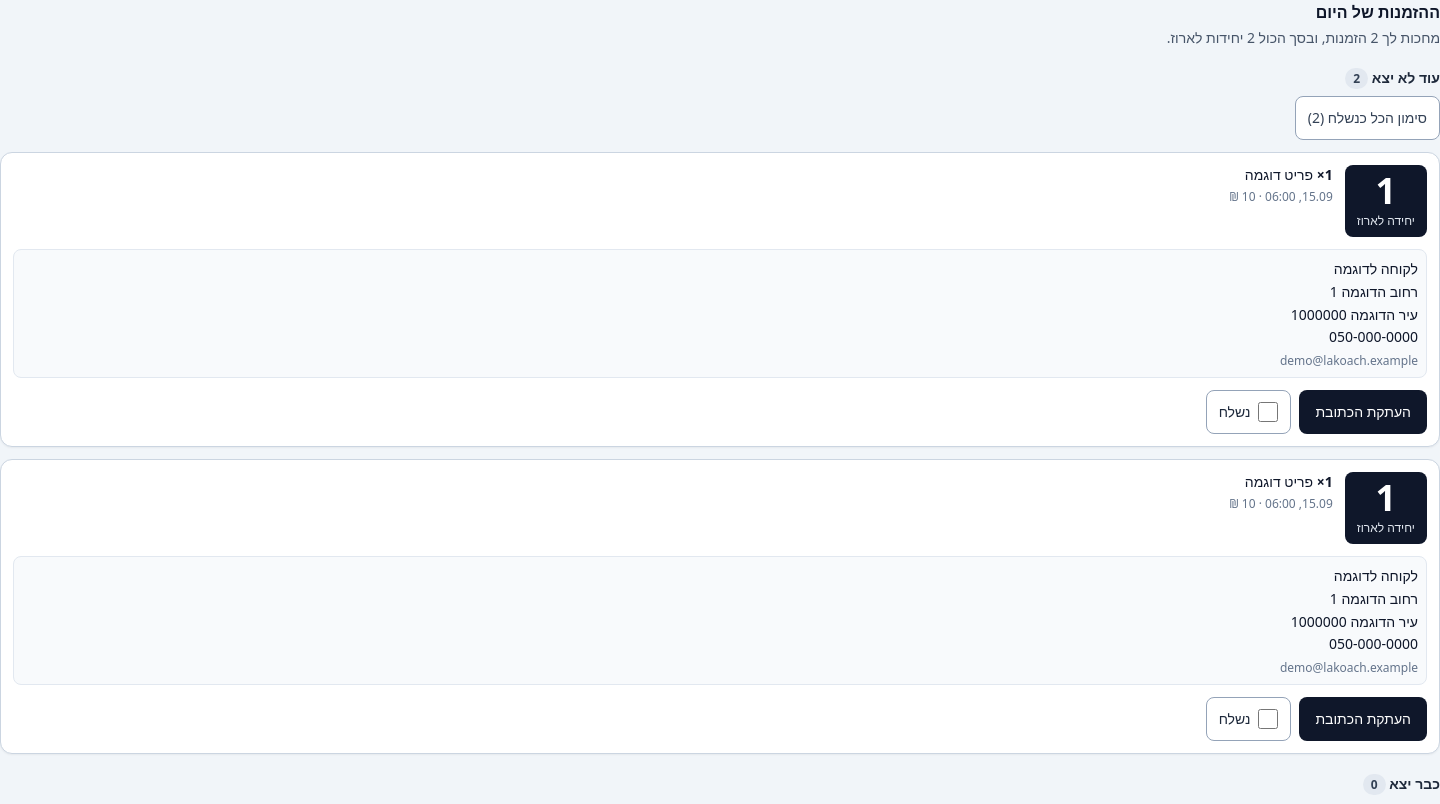
★★ אישור דו-שלבי › ★★ האישור שולח בדיוק את המזהים של ההזמנות הפתוחות
The width and height of the screenshot is (1440, 804).
Click the button "סימון הכל כנשלח (2)".
click(1367, 118)  # box left=1295, top=96, right=1439, bottom=140
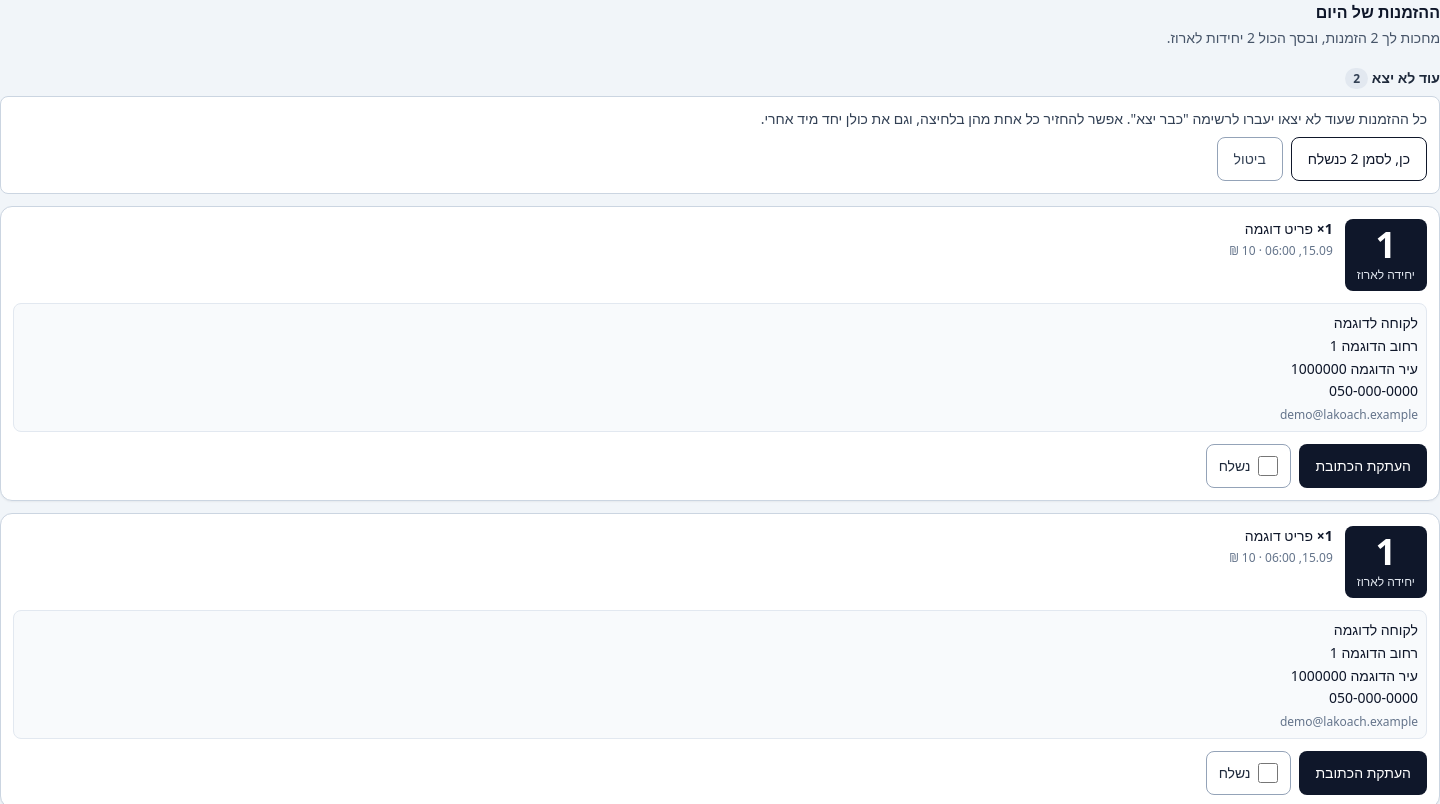
Click the button "כן, לסמן 2 כנשלח".
click(1359, 159)  # box left=1291, top=137, right=1427, bottom=181
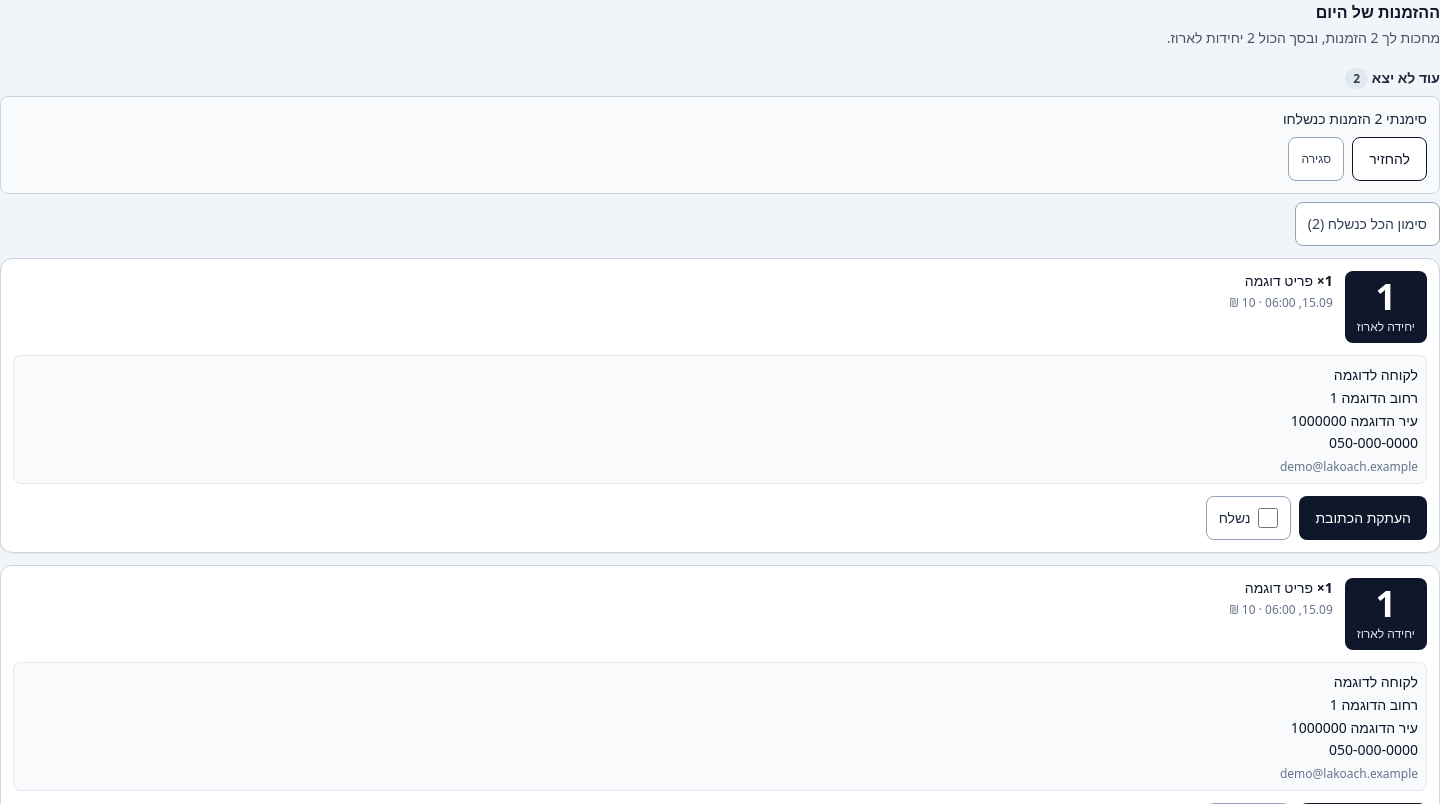
Result: the text "סימנתי 2" is shown at left=1283, top=109, right=1427, bottom=128
